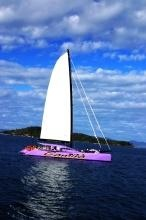fanchuan: (17, 48, 116, 159)
